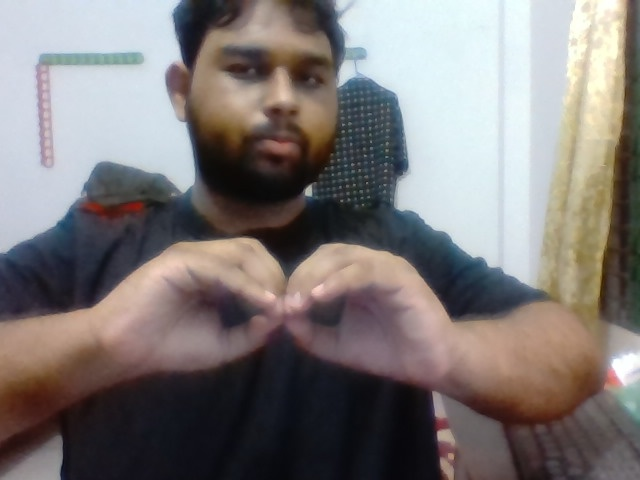B: (115, 222, 460, 410)
